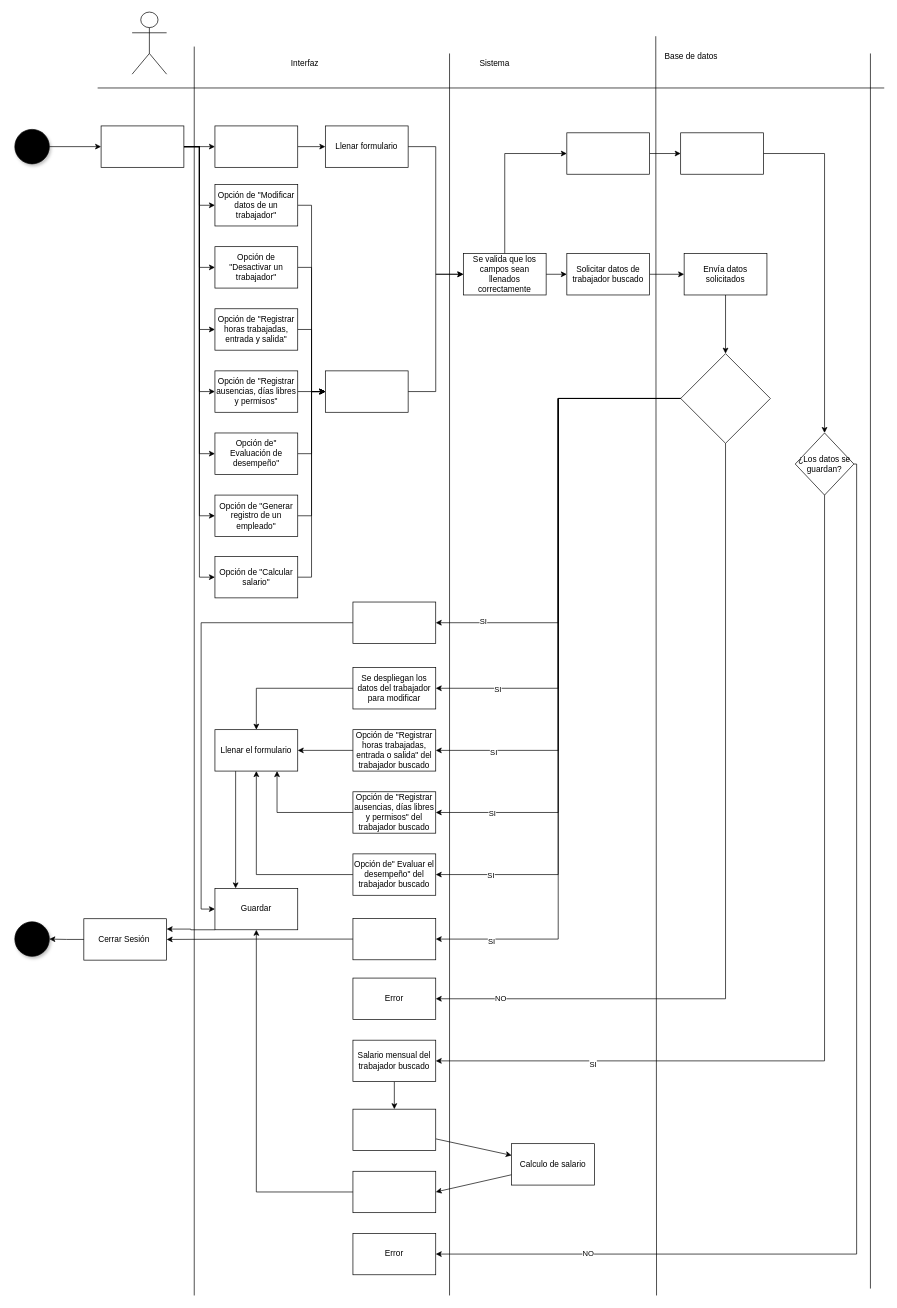
Some shapes in this 897 by 1308 pixel diagram are drawn without their labels. The shapes that lost their labels are listed below. From the top down, each one's centre as x and y in pixels, then its label:
(x=149, y=42): Usuario
(x=142, y=146): Iniciar sesión
(x=256, y=146): Opción de "Ingresar datos del trabajador"
(x=608, y=153): Enviar datos "Datos del trabajador"
(x=721, y=153): Guardar datos
(x=366, y=391): Opción de "Buscar trabajador"
(x=725, y=398): ¿Los datos se envían correctamente?
(x=394, y=622): ¿Desactivar trabajador buscado?
(x=394, y=939): Registro del trabajador buscado
(x=394, y=1129): Llenar formulario de calculo
(x=394, y=1192): Calculo de salario final
